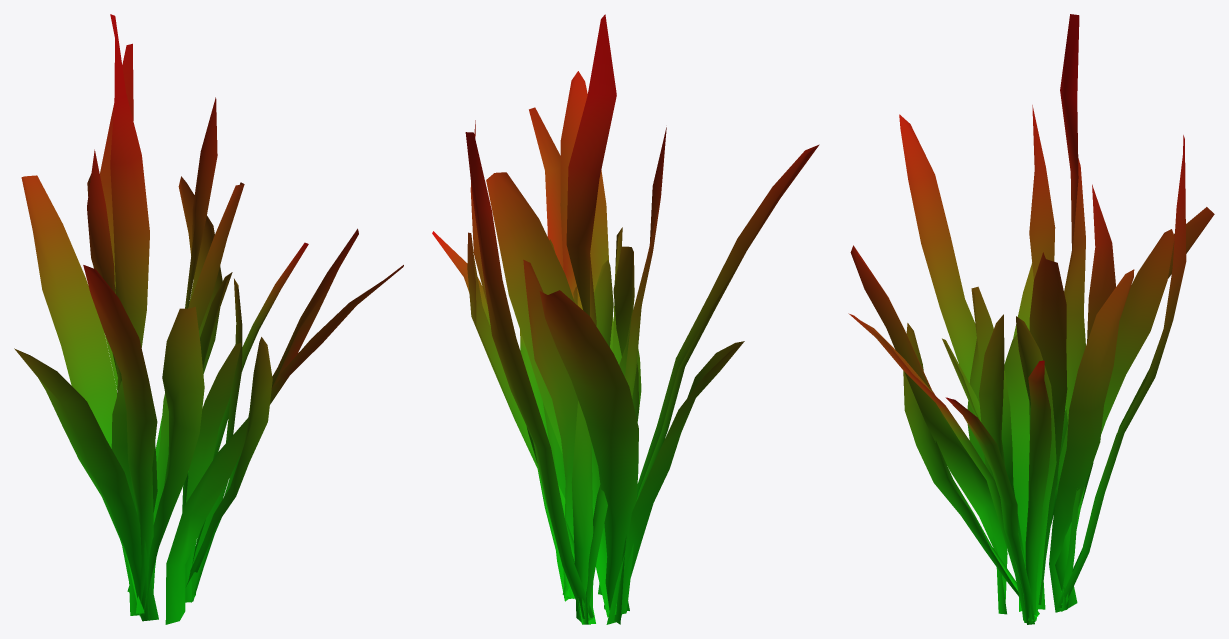
Rendered from FBX_Plant_3D_009.fbx.
3 views of the same model, side by side, from view 1: azimuth 30°, elevation 25°; view 2: azimuth 150°, elevation 25°; view 3: azimuth 270°, elevation 25° (orthographic). The views are drawn at different scales.
Visible parts, largest first — view 1: Var7_LOD1; view 2: Var7_LOD1; view 3: Var7_LOD1.
Boxes of the visible parts, left/top/right/bottom form: Var7_LOD1: left=14, top=14, right=403, bottom=624; Var7_LOD1: left=432, top=14, right=819, bottom=624; Var7_LOD1: left=848, top=14, right=1214, bottom=624.
Bounding box in the file's own units: 61.03 × 116 × 64.97.
